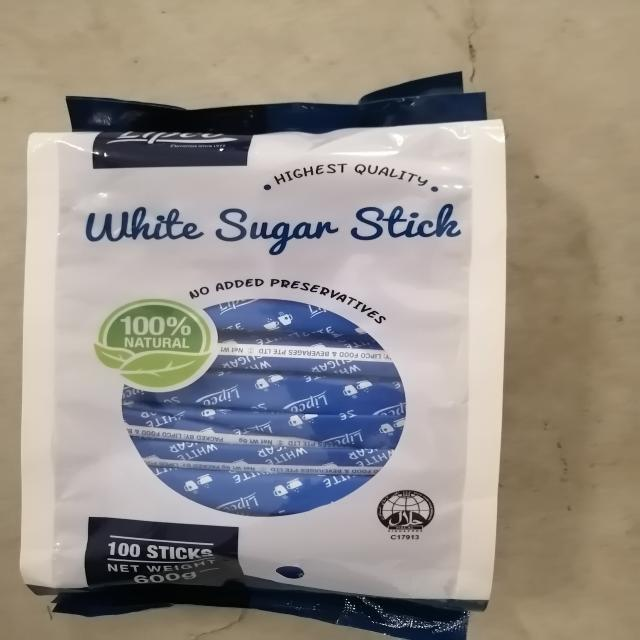object_name: (28, 132, 493, 603)
